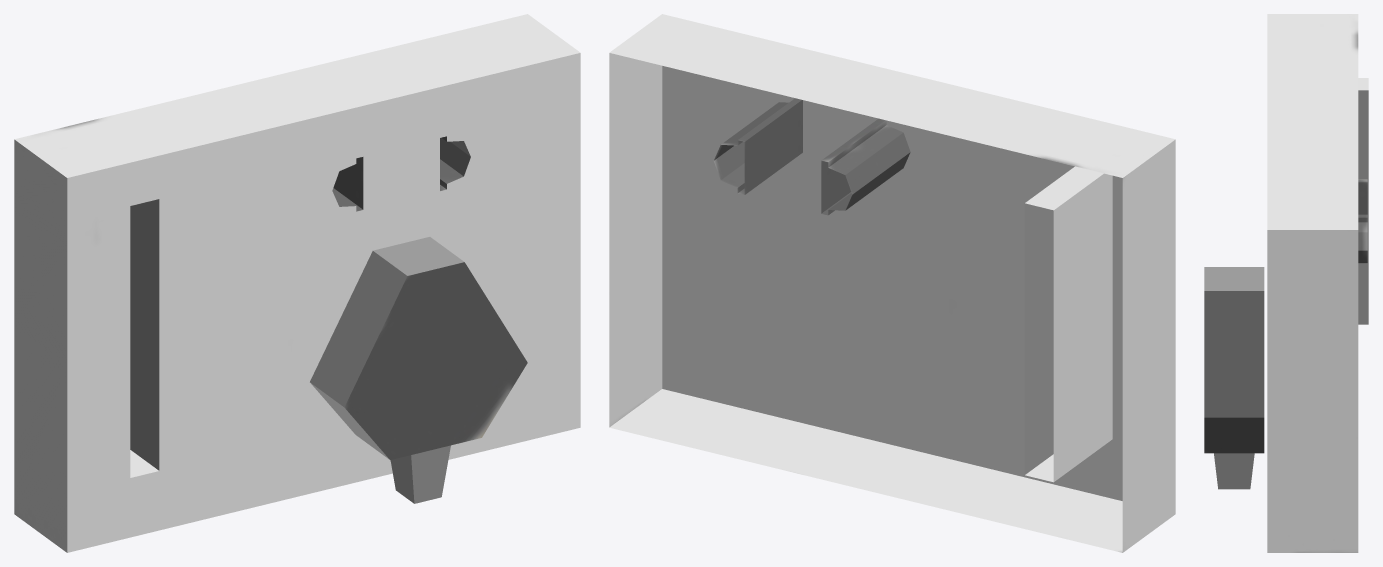
Rendered from powersupply.fbx.
3 views of the same model, side by side, from view 1: azimuth 30°, elevation 25°; view 2: azimuth 150°, elevation 25°; view 3: azimuth 270°, elevation 25° (orthographic). The views are drawn at different scales.
Parts seen in each view (by area): view 1: powersupply; view 2: powersupply; view 3: powersupply.
Boxes of the visible parts, <box> form: powersupply: <box>14,14,580,552</box>; powersupply: <box>609,14,1175,552</box>; powersupply: <box>1204,14,1368,552</box>.
Bounding box in the file's own units: 1.16 × 0.8274 × 0.3732.
